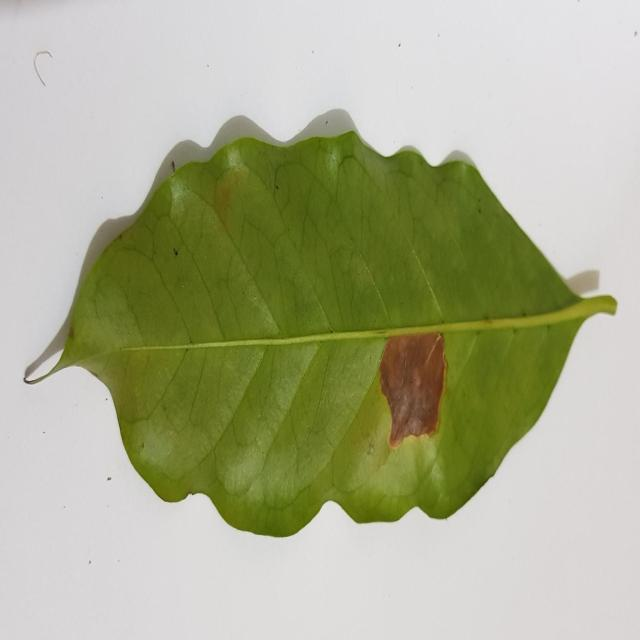Plaga-Minador: (58, 111, 618, 539)
